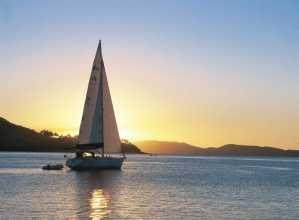fanchuan: (64, 39, 129, 168)
